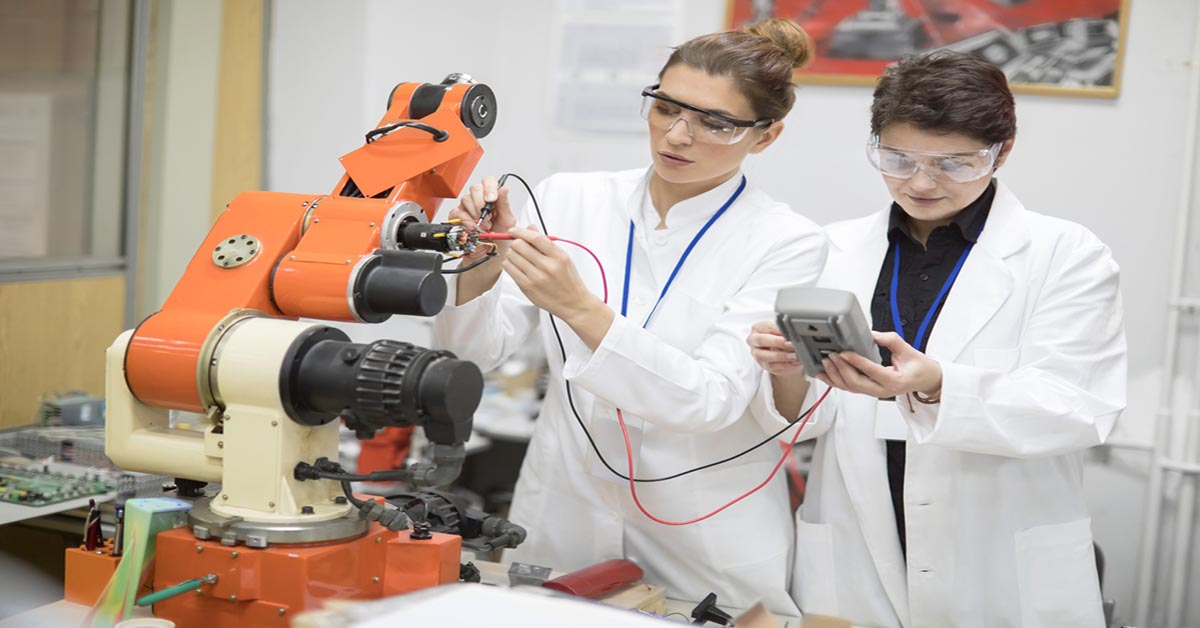person: (433, 18, 827, 624), (751, 50, 1128, 628)
robot: (100, 69, 527, 552)
